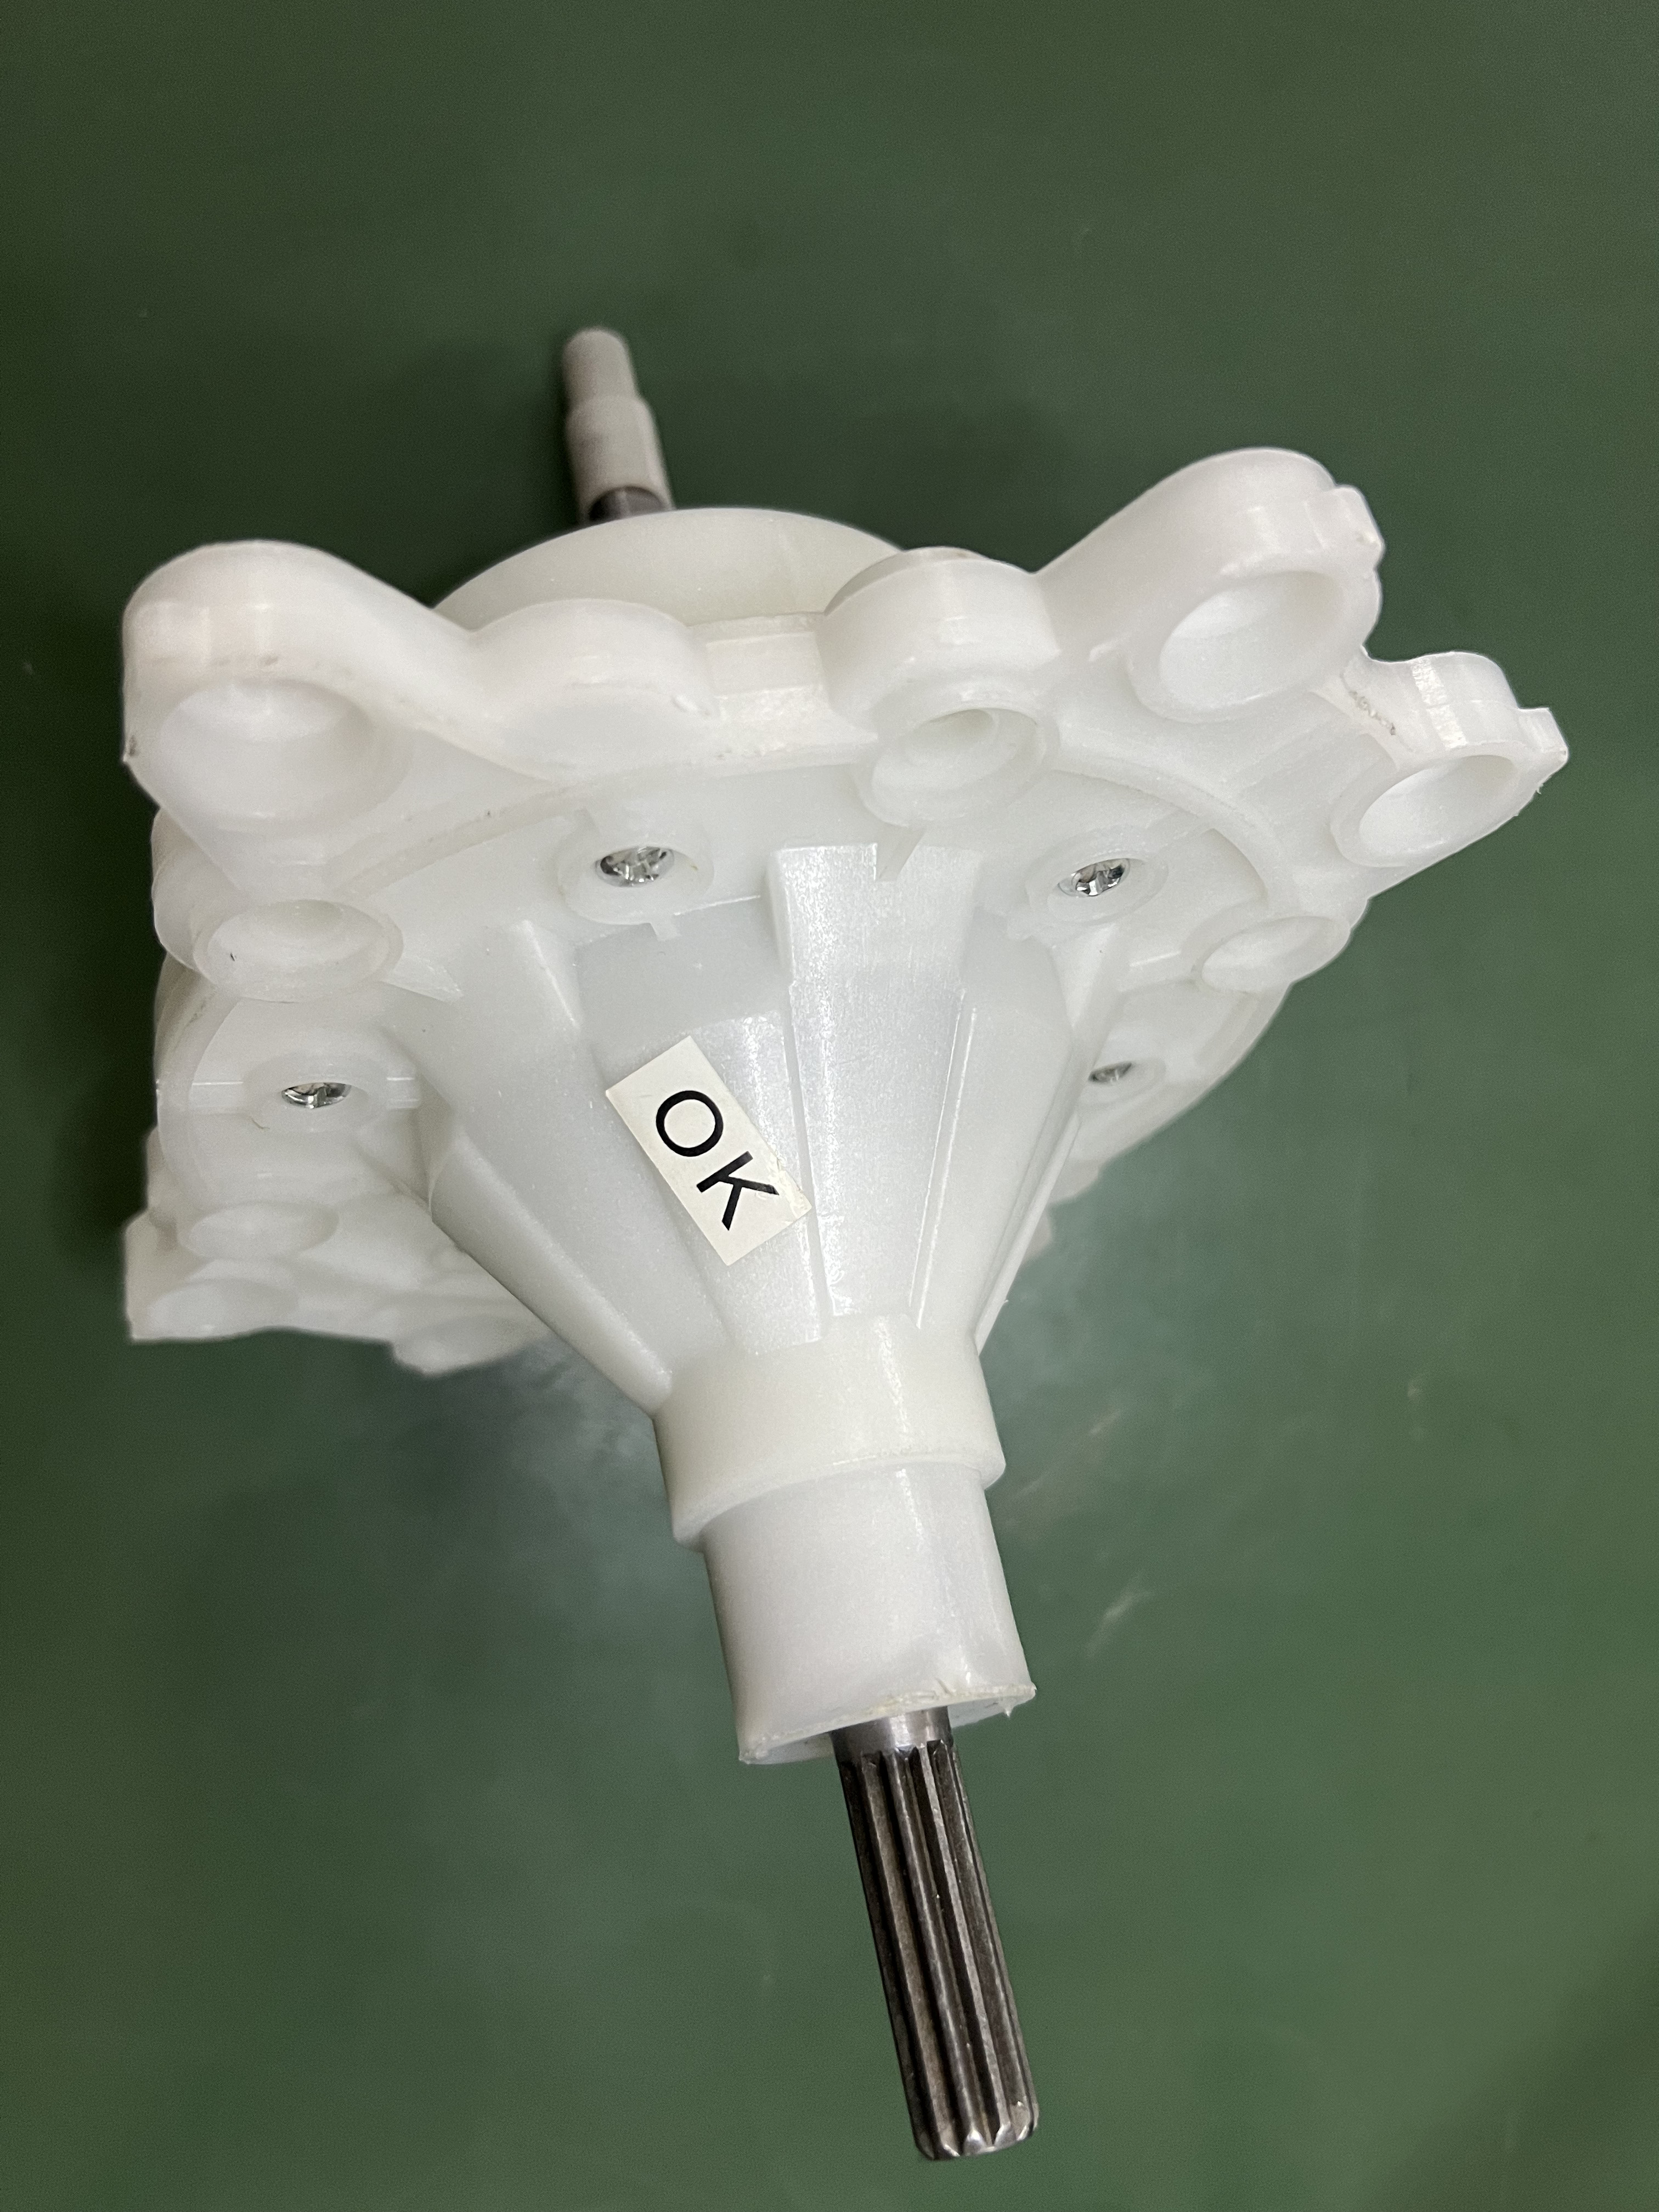gear_box_design: (131, 303, 1558, 2160)
